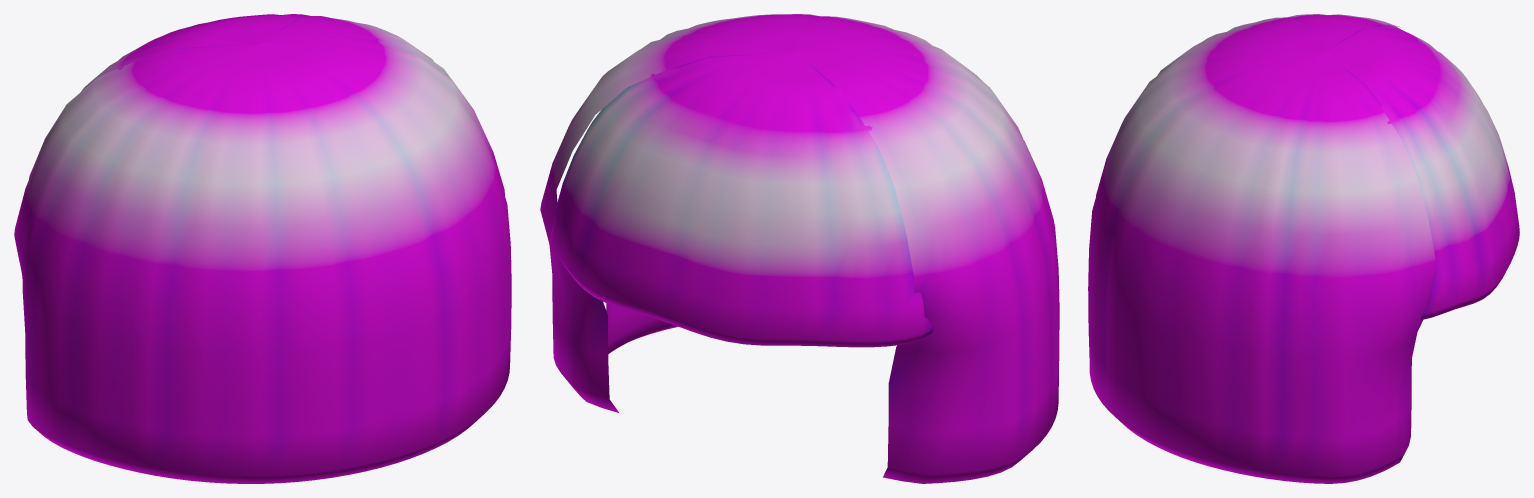
File: bob_mid.glb
3 renders of one model, left to right at view 1: azimuth 30°, elevation 25°; view 2: azimuth 150°, elevation 25°; view 3: azimuth 270°, elevation 25°, orthographic. The views are drawn at different scales.
Visible parts, largest first — view 1: bob; view 2: bob; view 3: bob.
Part boxes in pixels (<box>): bob: <box>14,14,511,483</box>; bob: <box>540,14,1059,483</box>; bob: <box>1088,14,1519,483</box>.
Bounding box in the file's own units: 1.12 × 0.826 × 0.9616.
